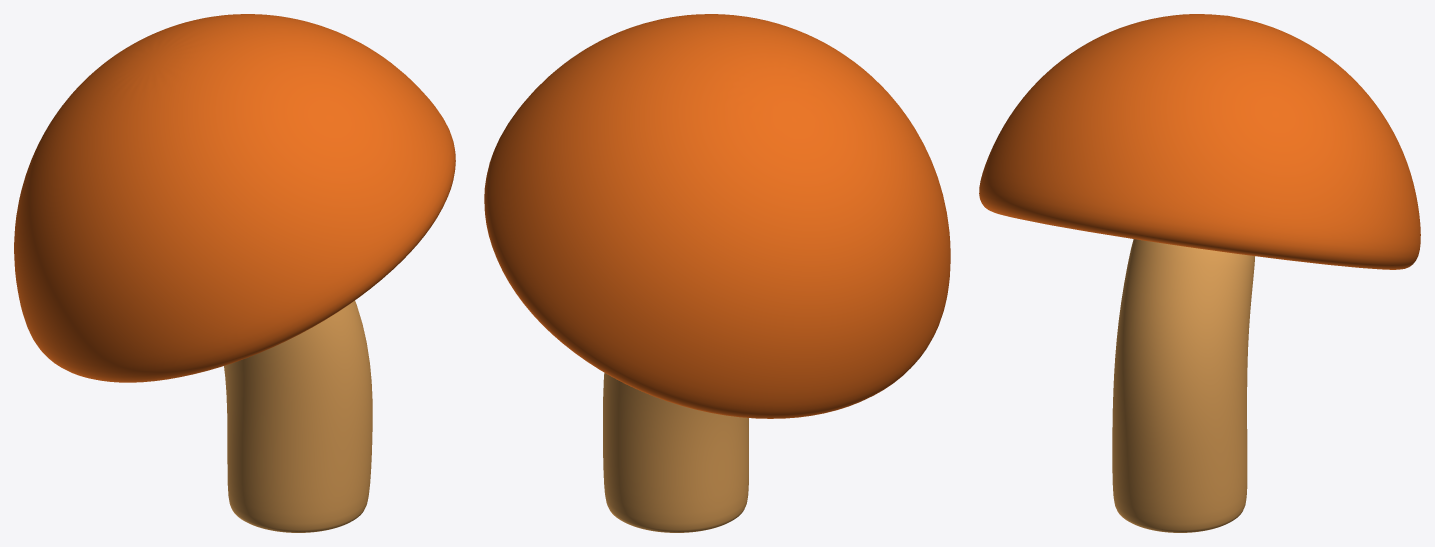
Rendered from Shroom1.fbx.
3 views of the same model, side by side, from view 1: azimuth 30°, elevation 25°; view 2: azimuth 150°, elevation 25°; view 3: azimuth 270°, elevation 25° (orthographic). The views are drawn at different scales.
Parts seen in each view (by area): view 1: Cylinder.006; view 2: Cylinder.006; view 3: Cylinder.006.
Boxes of the visible parts, x1,y1,x2,y2 form: Cylinder.006: (14,14,455,532); Cylinder.006: (484,14,950,532); Cylinder.006: (979,14,1420,532).
Size of the model in its own units: 65.2 by 76.76 by 67.99.
